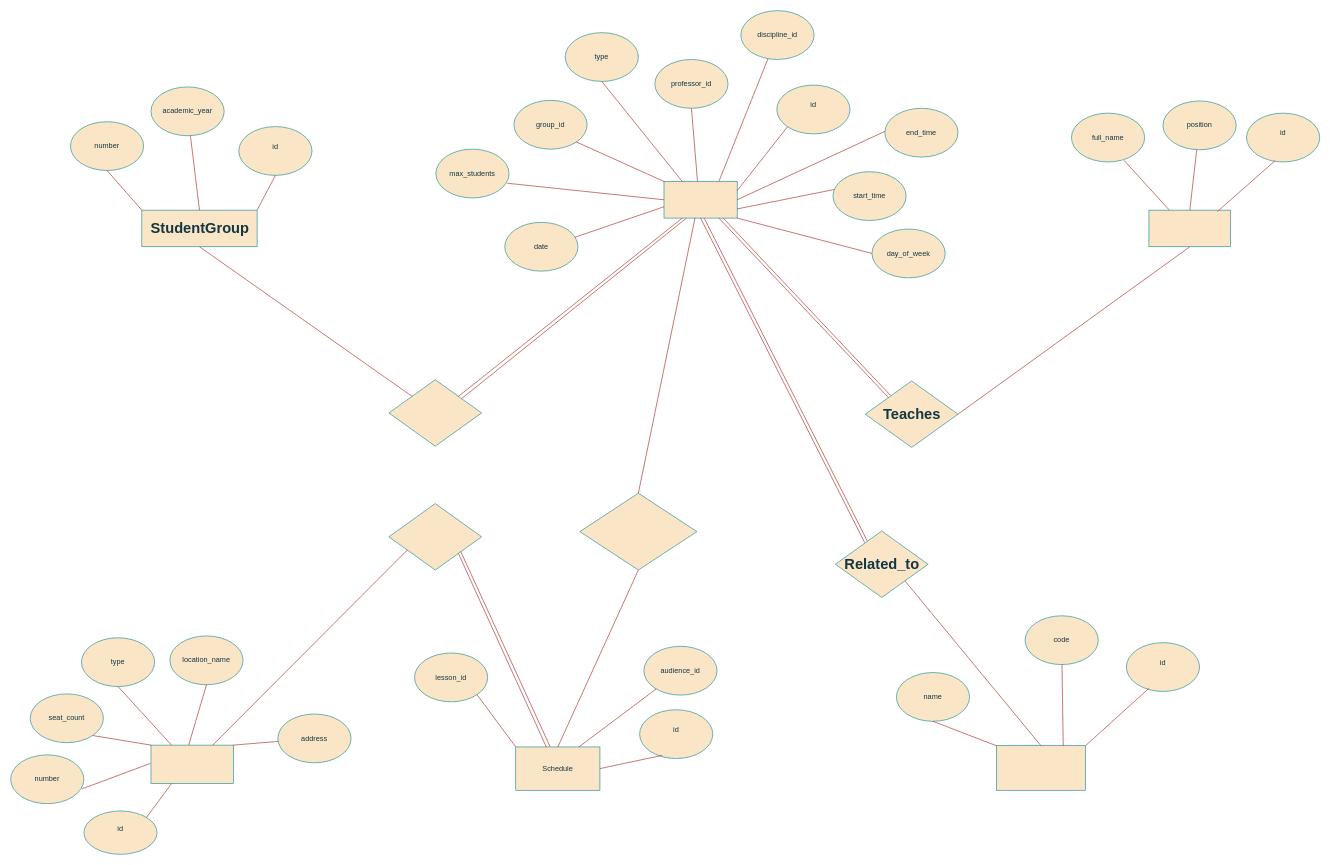
Some shapes in this 1330 by 865 pixel diagram are drawn without their labels. The box of each missing label's shape, as (x1, y1, x2, y2) in pixels:
Attends: (388, 379, 482, 446)
Audience: (150, 745, 233, 784)
Discipline: (996, 745, 1085, 790)
Held_in: (388, 503, 482, 570)
lesson: (663, 181, 737, 218)
Professor: (1148, 210, 1231, 247)
Scheduled_in: (579, 493, 697, 570)
